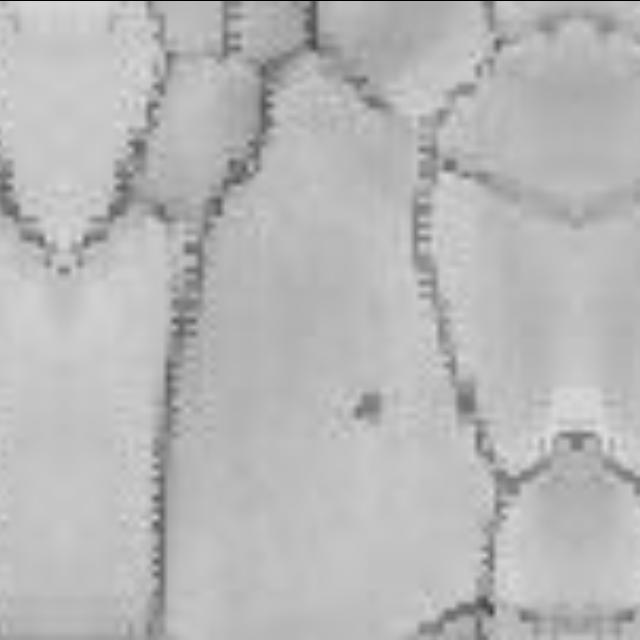good_void: (347, 384, 390, 426)
